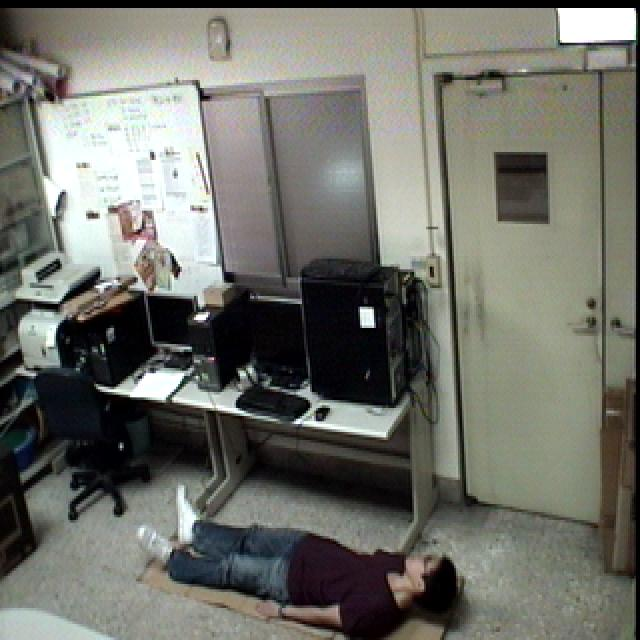lie: (135, 479, 467, 640)
